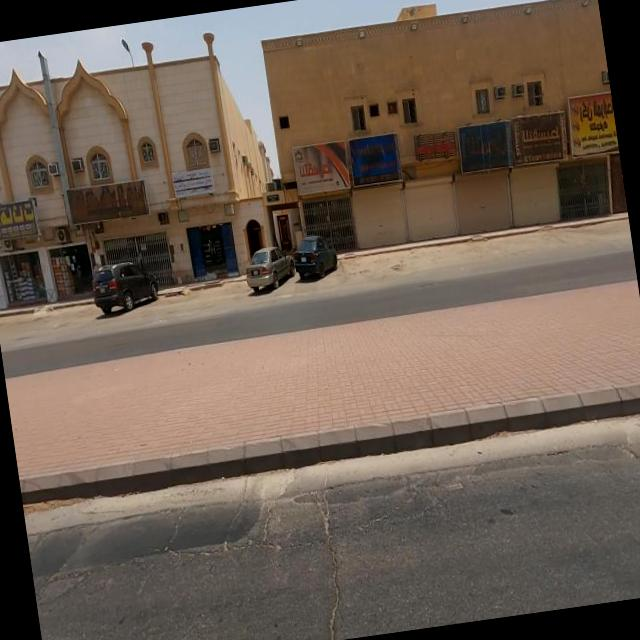debris: (421, 64, 558, 214), (35, 130, 192, 256), (488, 82, 601, 194), (266, 102, 384, 209)
